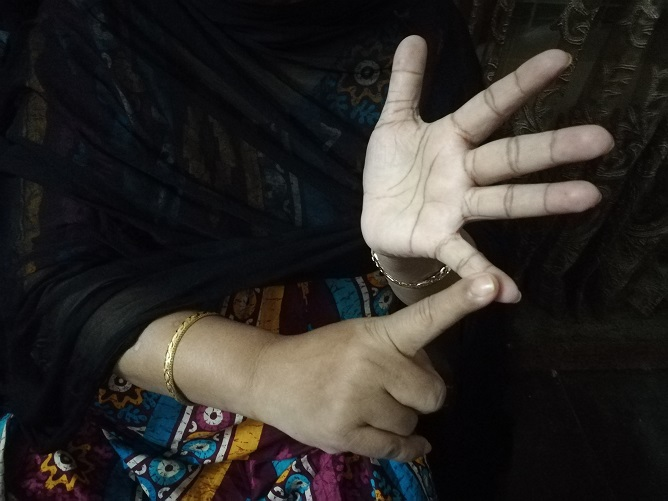i: (354, 33, 604, 431)
